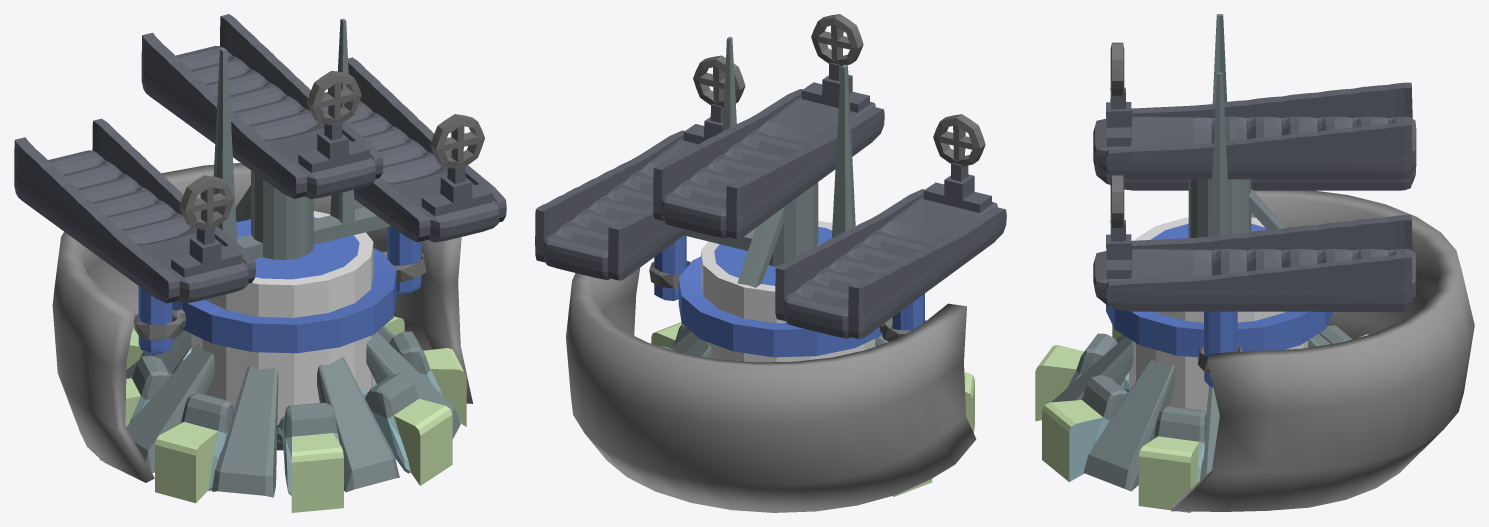
File: rocketlauncher_level10.fbx
3 views of the same model, side by side, from view 1: azimuth 30°, elevation 25°; view 2: azimuth 150°, elevation 25°; view 3: azimuth 270°, elevation 25° (orthographic). The views are drawn at different scales.
Parts seen in each view (by area): view 1: reactor.001, powersupply.007, ground.005, settlement_place.010, settlement_place.009, powersupply.005, settlement_place.011, focus_point.004, focus_point.002, focus_point.003, holder3.007, holder3.006 (+1 smaller); view 2: ground.005, settlement_place.010, reactor.001, settlement_place.009, settlement_place.011, focus_point.002, focus_point.003, focus_point.004, powersupply.007, holder3.006, holder3.007, powersupply.005; view 3: ground.005, settlement_place.011, settlement_place.009, reactor.001, powersupply.007, powersupply.005, settlement_place.010, holder3.006, focus_point.003, focus_point.004.
Boxes of the visible parts, x1=… form: reactor.001: x1=172, y1=18, x2=396, y2=450; powersupply.007: x1=99, y1=316, x2=466, y2=512; ground.005: x1=52, y1=163, x2=472, y2=482; settlement_place.010: x1=14, y1=118, x2=255, y2=303; settlement_place.009: x1=141, y1=14, x2=383, y2=199; powersupply.005: x1=126, y1=326, x2=460, y2=497; settlement_place.011: x1=324, y1=57, x2=506, y2=242; focus_point.004: x1=430, y1=114, x2=484, y2=168; focus_point.002: x1=179, y1=175, x2=234, y2=229; focus_point.003: x1=307, y1=70, x2=361, y2=125; holder3.007: x1=138, y1=286, x2=172, y2=354; holder3.006: x1=387, y1=226, x2=421, y2=293; ground.005: x1=566, y1=268, x2=976, y2=512; settlement_place.010: x1=775, y1=162, x2=1006, y2=338; reactor.001: x1=678, y1=37, x2=882, y2=362; settlement_place.009: x1=653, y1=62, x2=884, y2=238; settlement_place.011: x1=535, y1=104, x2=723, y2=280; focus_point.002: x1=933, y1=114, x2=985, y2=166; focus_point.003: x1=811, y1=14, x2=863, y2=66; focus_point.004: x1=693, y1=55, x2=745, y2=107; powersupply.007: x1=651, y1=322, x2=974, y2=496; holder3.006: x1=654, y1=235, x2=686, y2=300; holder3.007: x1=892, y1=293, x2=924, y2=330; powersupply.005: x1=671, y1=331, x2=888, y2=360; ground.005: x1=1171, y1=190, x2=1474, y2=511; settlement_place.011: x1=1093, y1=215, x2=1416, y2=311; settlement_place.009: x1=1093, y1=82, x2=1416, y2=179; reactor.001: x1=1106, y1=14, x2=1333, y2=413; powersupply.007: x1=1035, y1=325, x2=1369, y2=512; powersupply.005: x1=1052, y1=334, x2=1330, y2=491; settlement_place.010: x1=1093, y1=99, x2=1416, y2=190; holder3.006: x1=1204, y1=311, x2=1237, y2=387; focus_point.003: x1=1110, y1=42, x2=1124, y2=95; focus_point.004: x1=1110, y1=175, x2=1124, y2=227.
Bounding box in the file's own units: 88.5 × 94.14 × 95.38.
